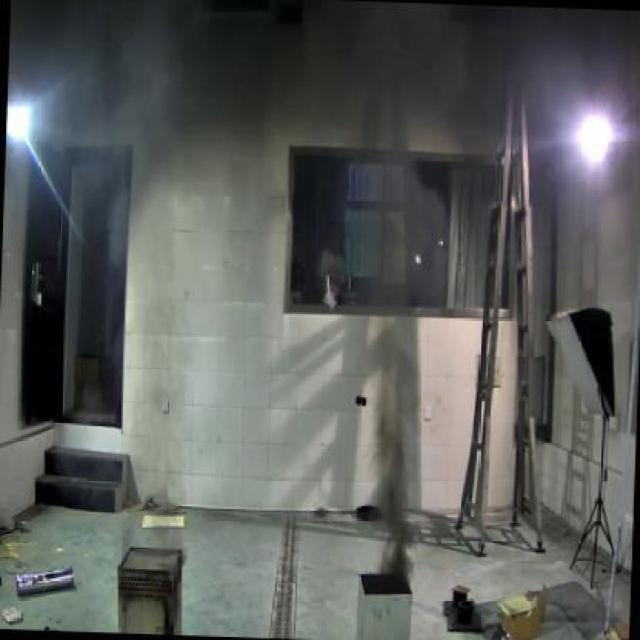fire: (362, 393, 422, 576)
